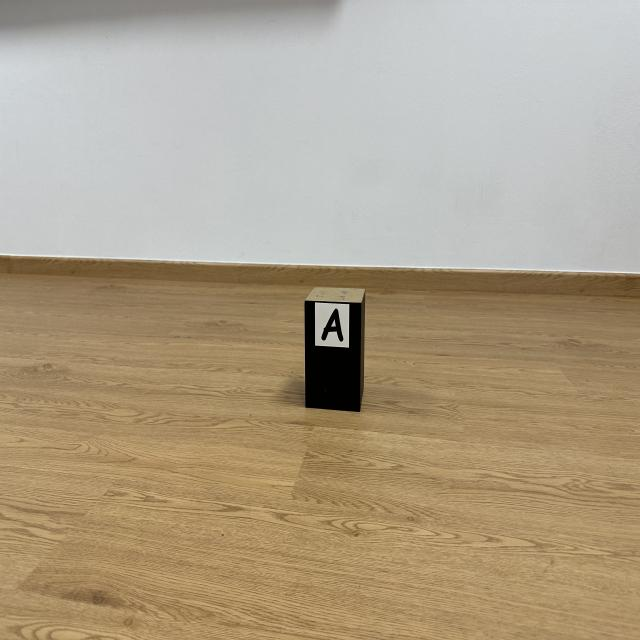A: (321, 308, 344, 342)
